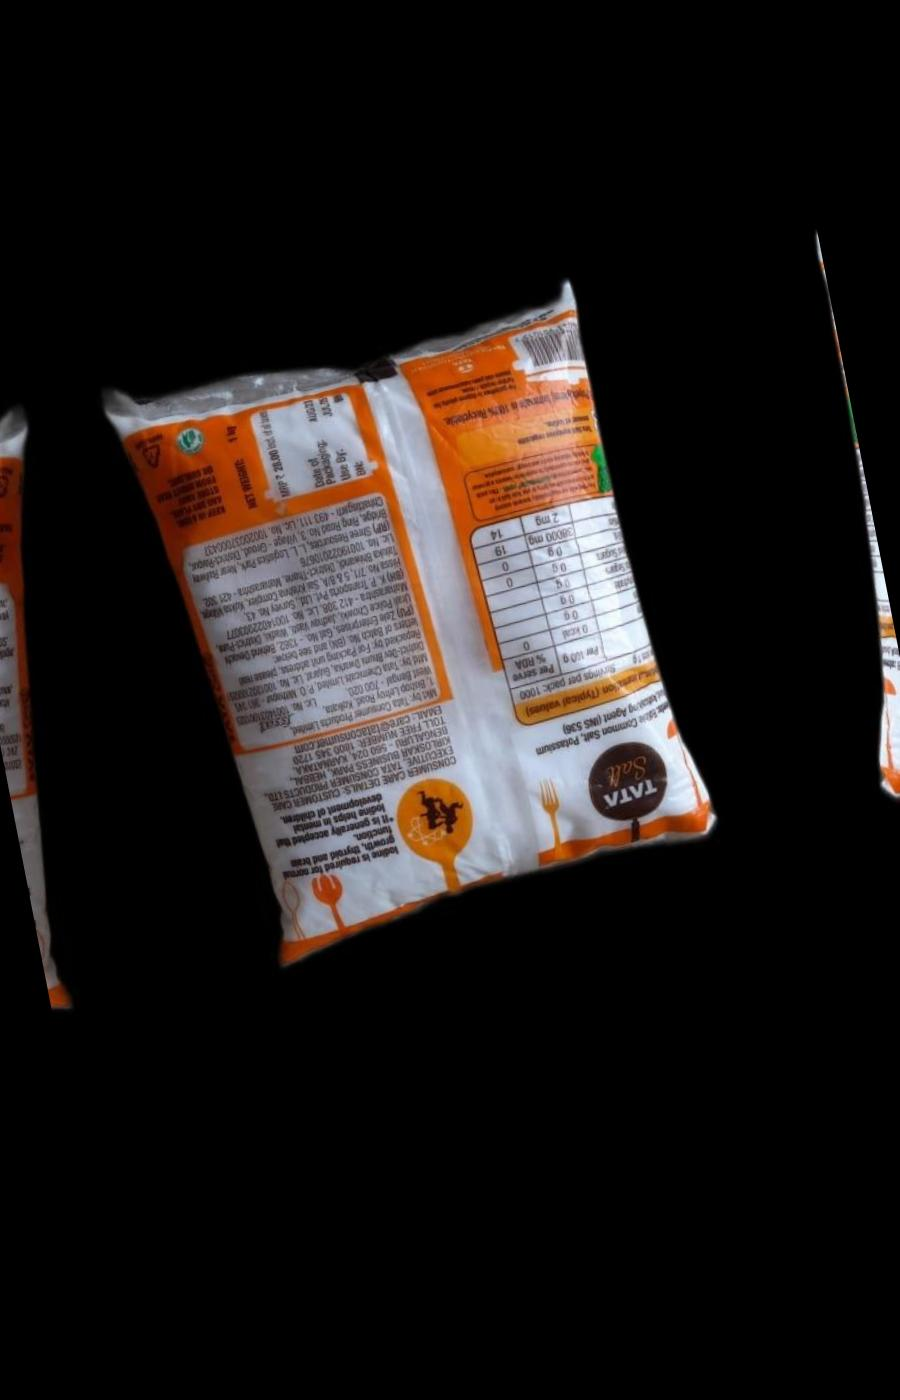Tata Salt Vacuum Evaporated Iodised Salt 1 kg Pouch: (104, 291, 737, 964)
